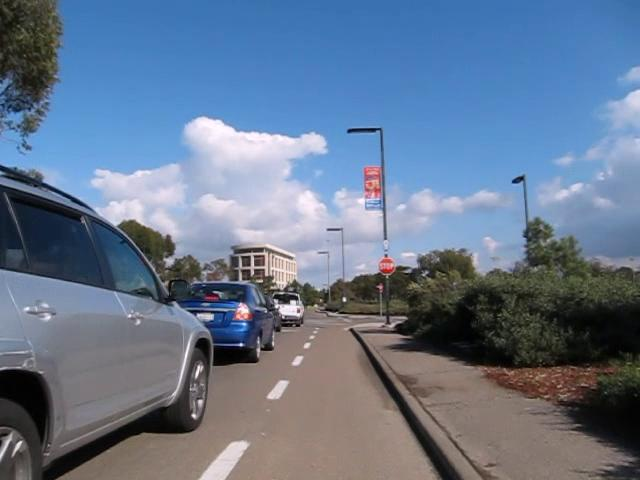stop: (377, 257, 395, 276)
